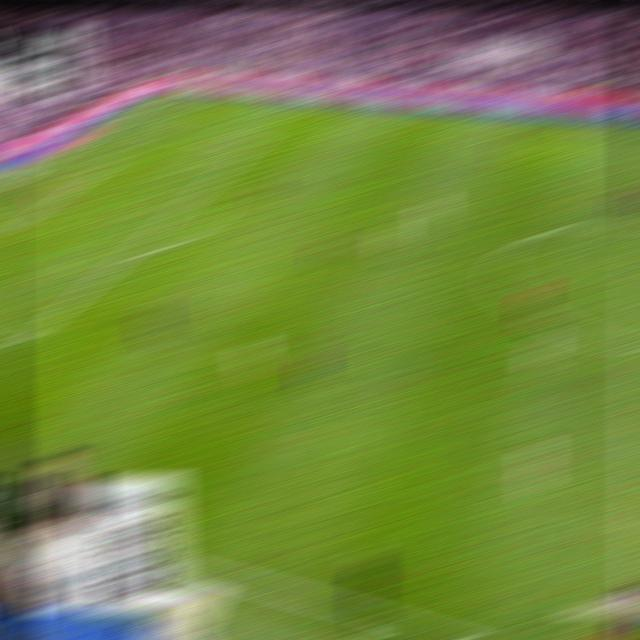bigarea_bottom_inner: (7, 335, 36, 352)
bigarea_top_inner: (244, 138, 265, 145)
bigarea_top_outter: (102, 122, 126, 128)
bottom_arc_area_intersection: (112, 248, 140, 260)
corner: (160, 91, 183, 94)
halfcircle_bottom: (622, 331, 640, 355)
halfcircle_top: (625, 216, 640, 233)
smallarea_top_inner: (93, 165, 114, 170)
top_arc_area_intersection: (192, 181, 217, 192)
